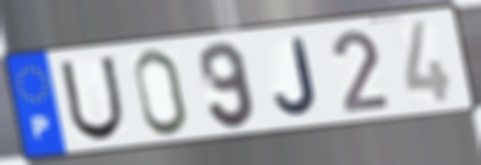0: (130, 46, 191, 140)
2: (330, 28, 393, 116)
4: (401, 18, 455, 106)
9: (196, 38, 259, 132)
J: (272, 35, 322, 119)
U: (57, 53, 128, 144)
